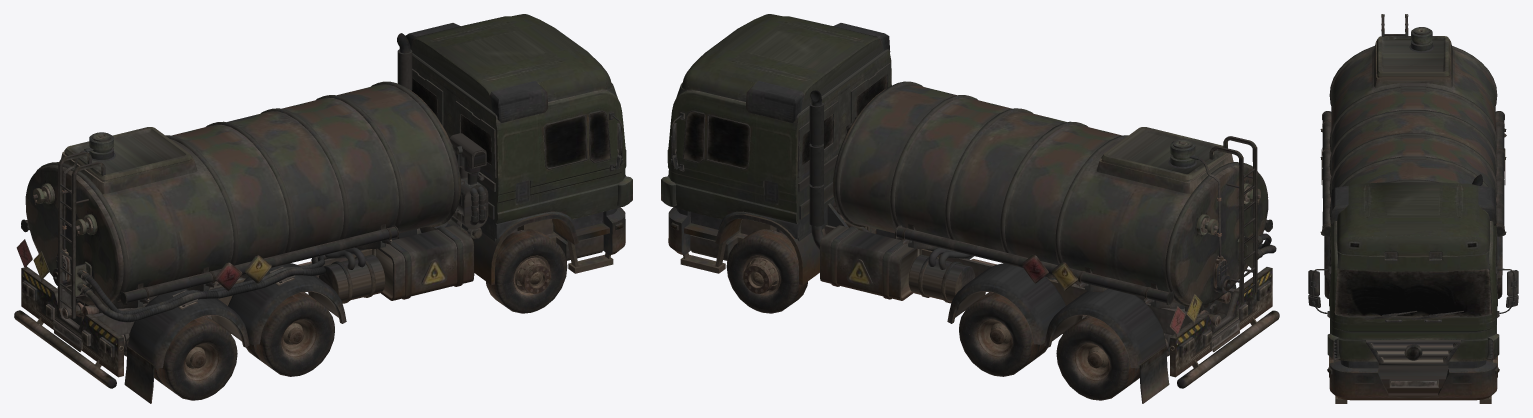
File: v_tanker.glb
3 renders of one model, left to right at view 1: azimuth 30°, elevation 25°; view 2: azimuth 150°, elevation 25°; view 3: azimuth 270°, elevation 25°, orthographic. The views are drawn at different scales.
Visible parts, largest first — view 1: v_tanker; view 2: v_tanker; view 3: v_tanker.
Boxes of the visible parts, x1,y1,x2,y2 form: v_tanker: [14, 14, 632, 403]; v_tanker: [661, 14, 1279, 403]; v_tanker: [1308, 14, 1518, 403].
Bounding box in the file's own units: 6.5 × 2.74 × 2.55.
1 material, 1 textured.
